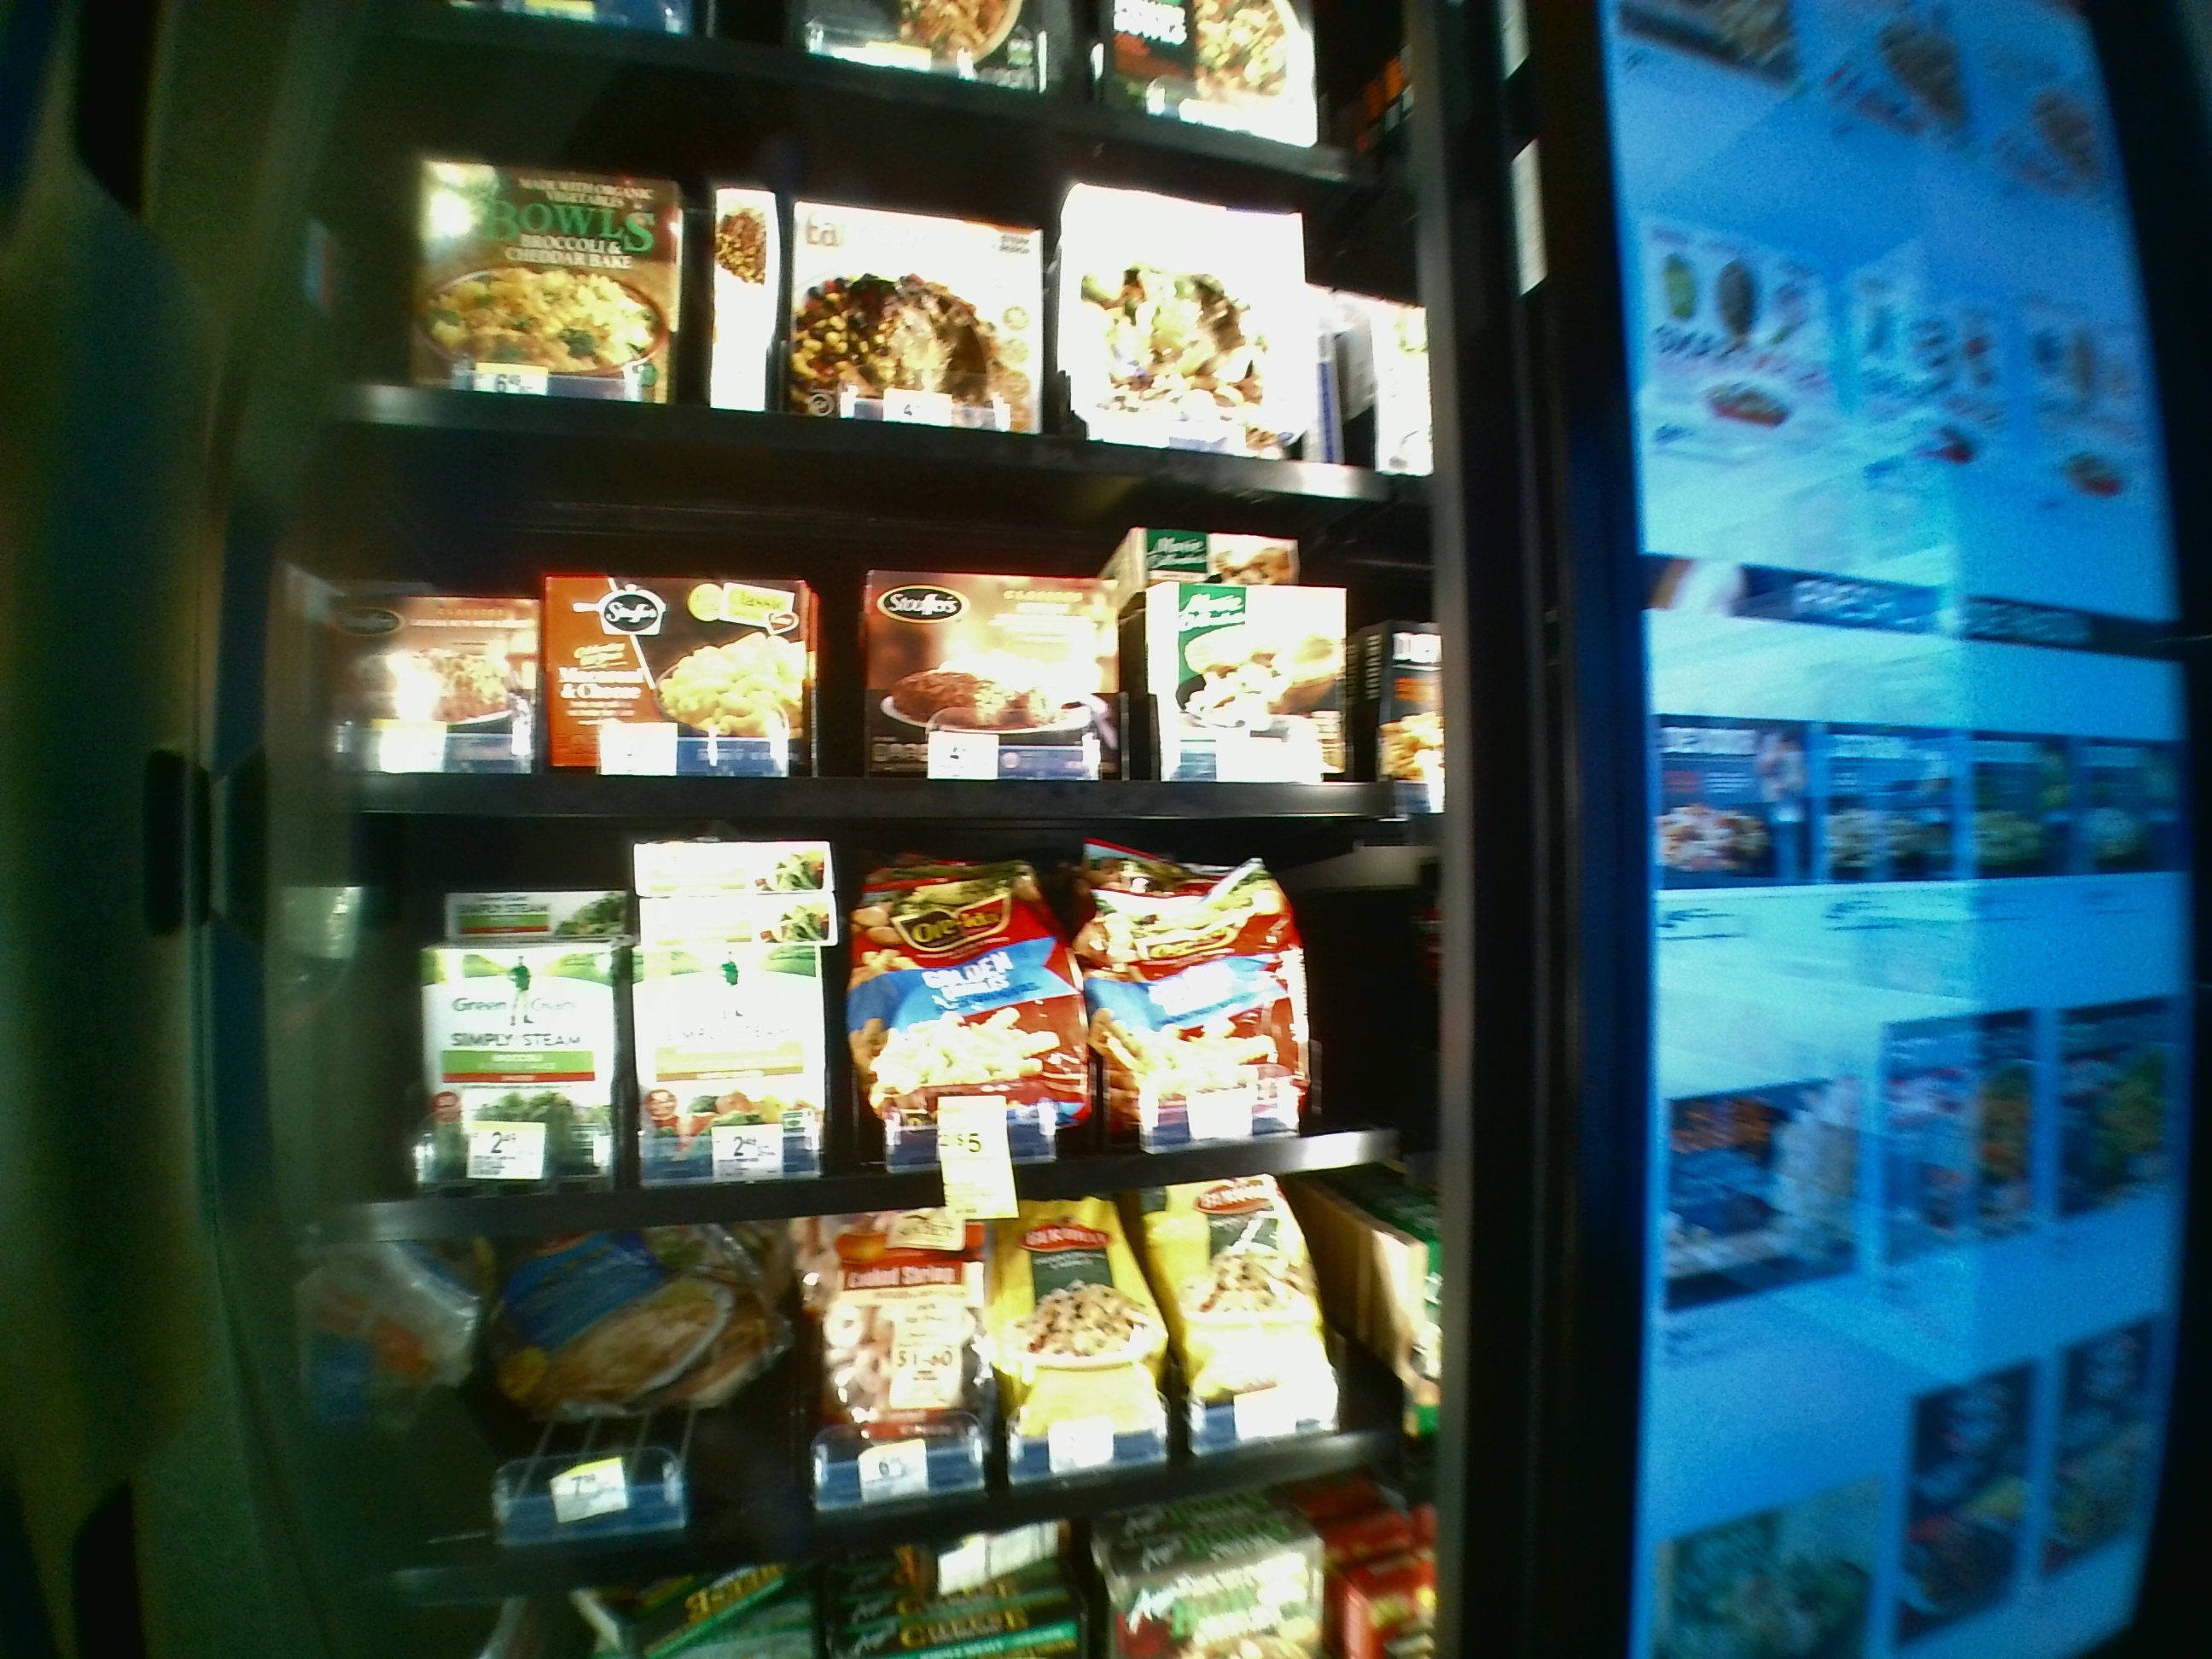shelf: (303, 836, 1430, 1248), (307, 427, 1428, 823)
